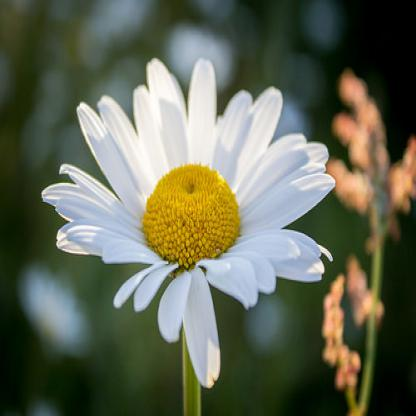ASTER: (36, 35, 348, 392)
